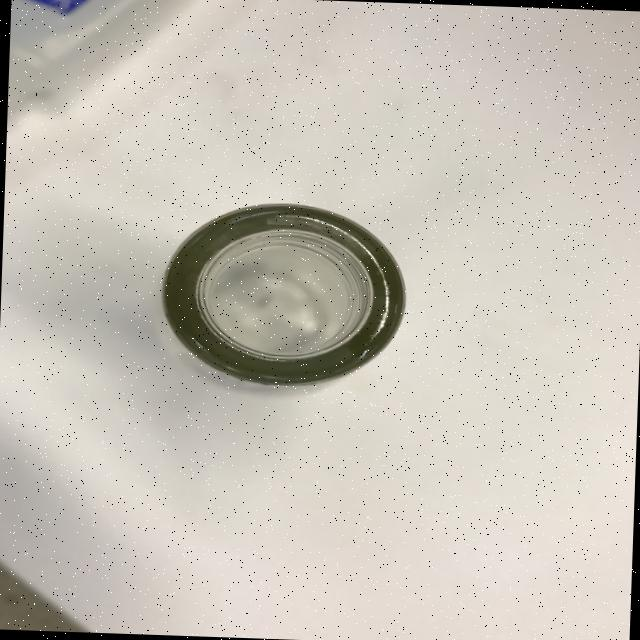glass: (158, 197, 410, 390)
